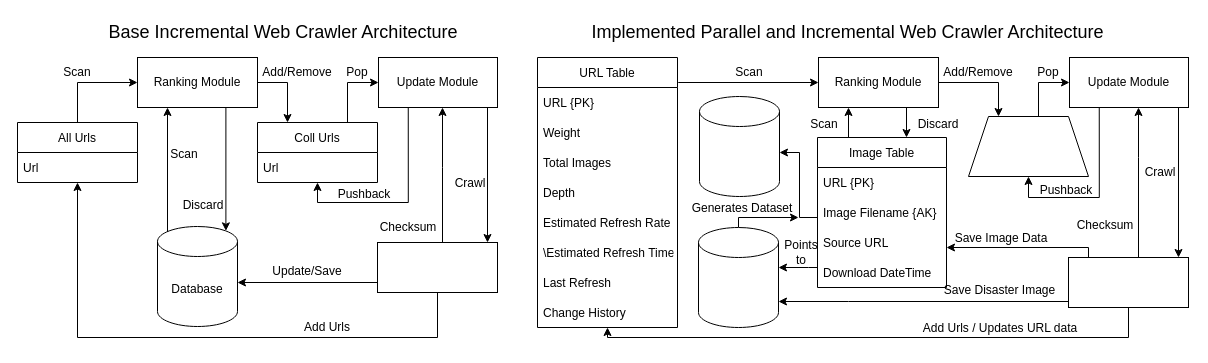
Some shapes in this 1208 by 363 pixel diagram are drawn without their labels. Each missing label, with the centre of its shape:
Crawl Module: pixel 437 267
Crawl Module Threads: pixel 1128 282
Database of Datasets: pixel 739 146
Database of Images: pixel 738 277
URL Queue: pixel 1028 146
